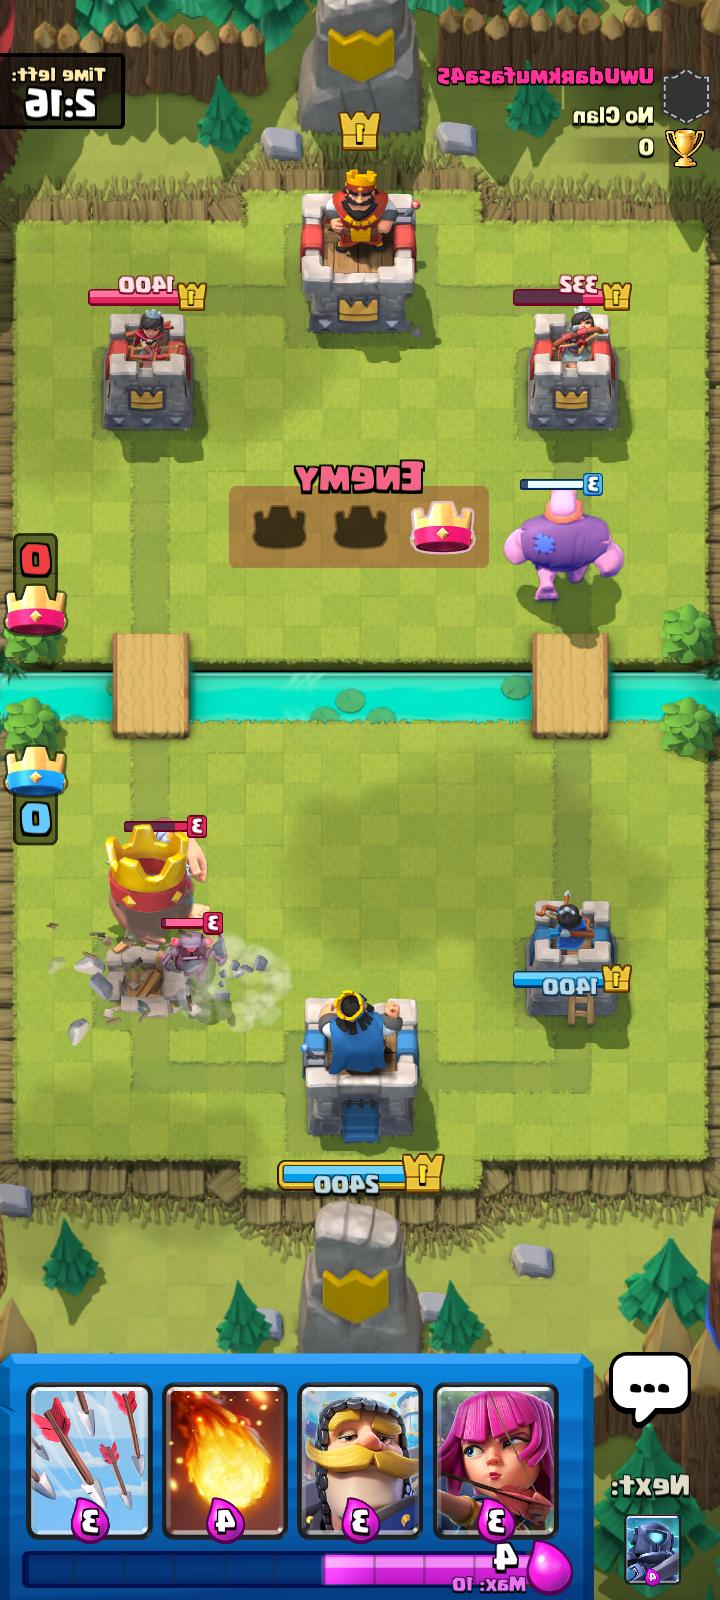geant: (509, 488, 622, 602)
mini_PEKKA: (161, 908, 222, 987)
